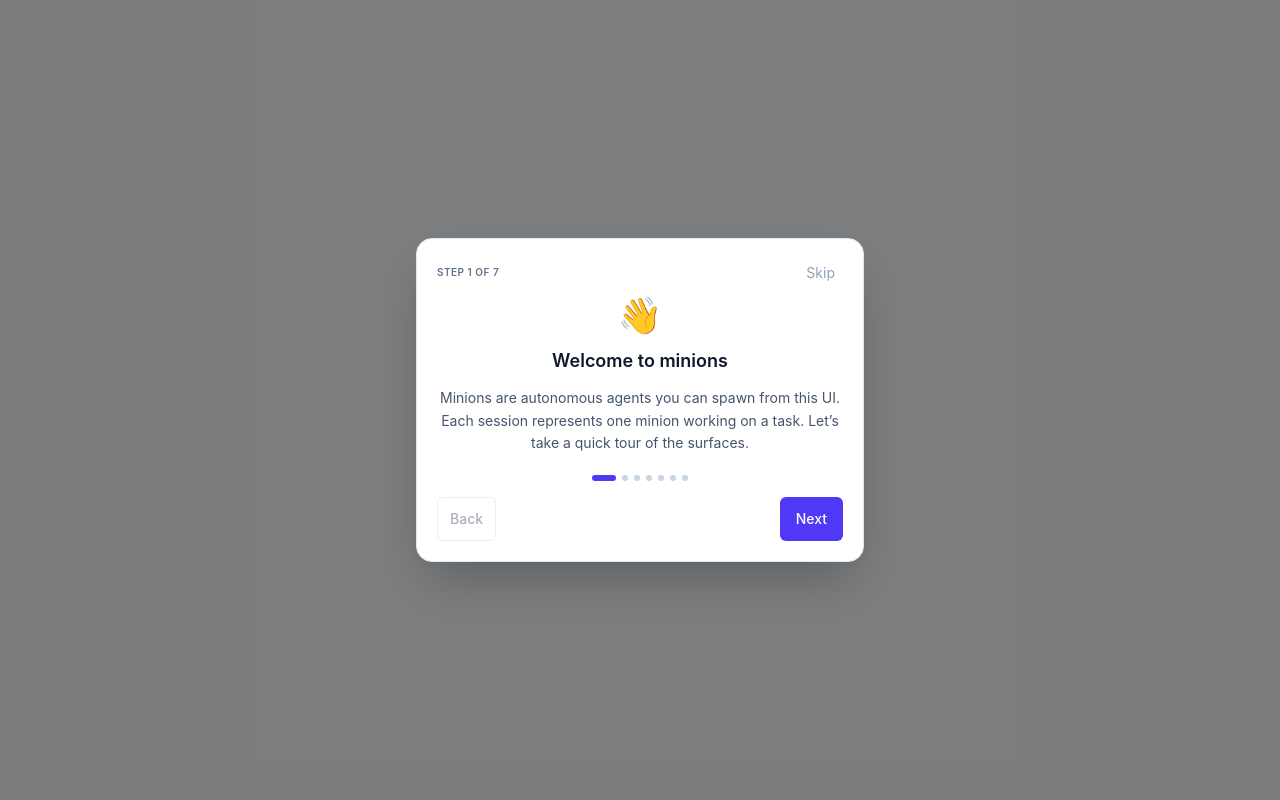
Test: OnboardingTour › Back returns to the previous step
Click the button with test id "onboarding-tour-next". click: [811, 519]
box: [780,497,843,541]
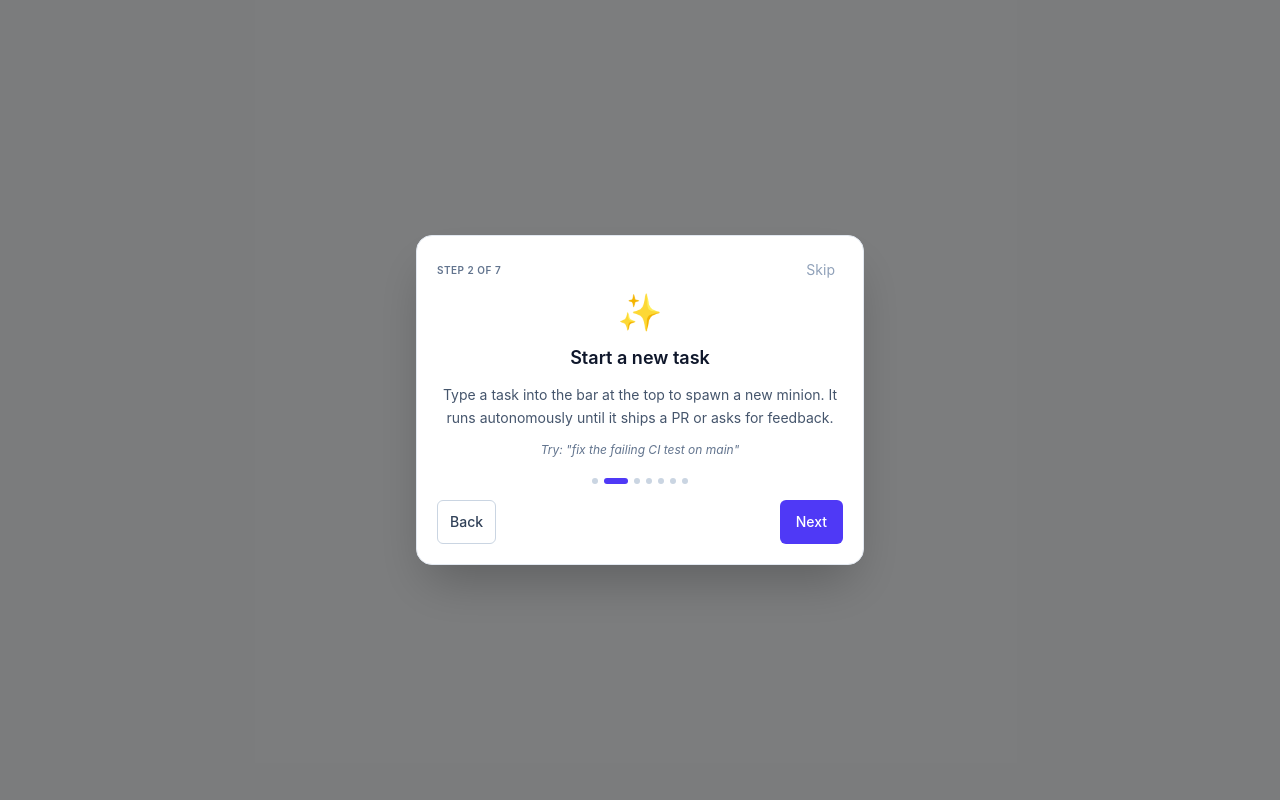
Expected: the heading with test id "onboarding-tour-title" reads "Start a new task", [570,347,710,368]
Click the button with test id "onboarding-tour-back". click: [467, 522]
box: [437,500,496,544]
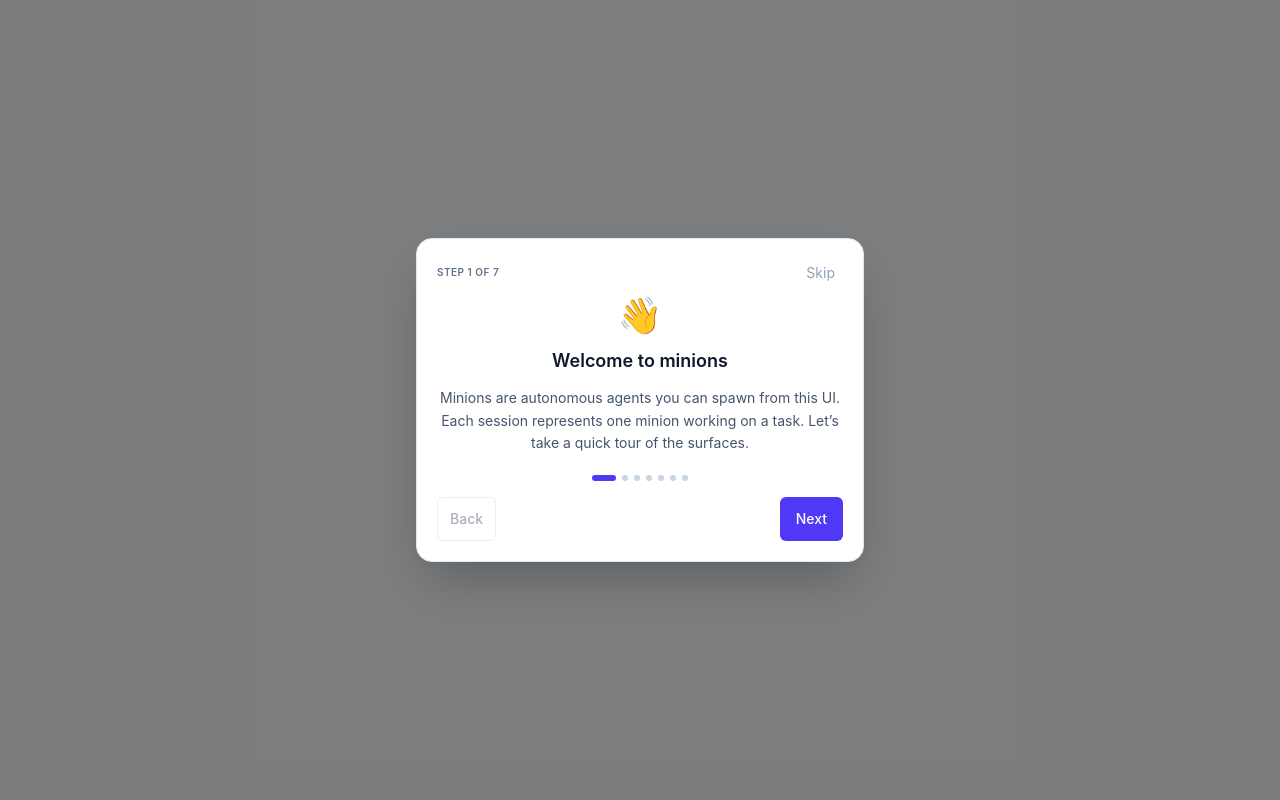
Expected: the heading with test id "onboarding-tour-title" reads "Welcome to minions", [552,350,728,371]
